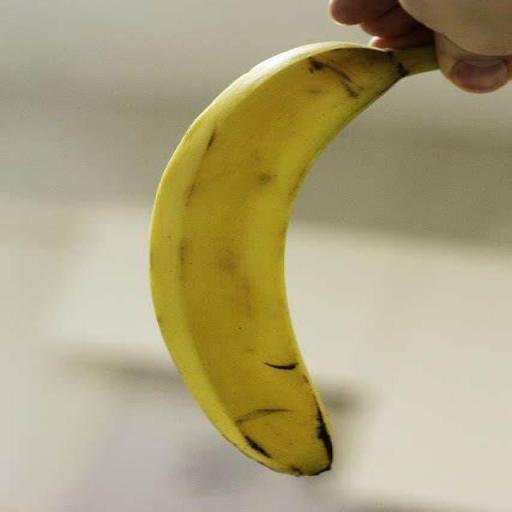fruit: (150, 42, 434, 473)
